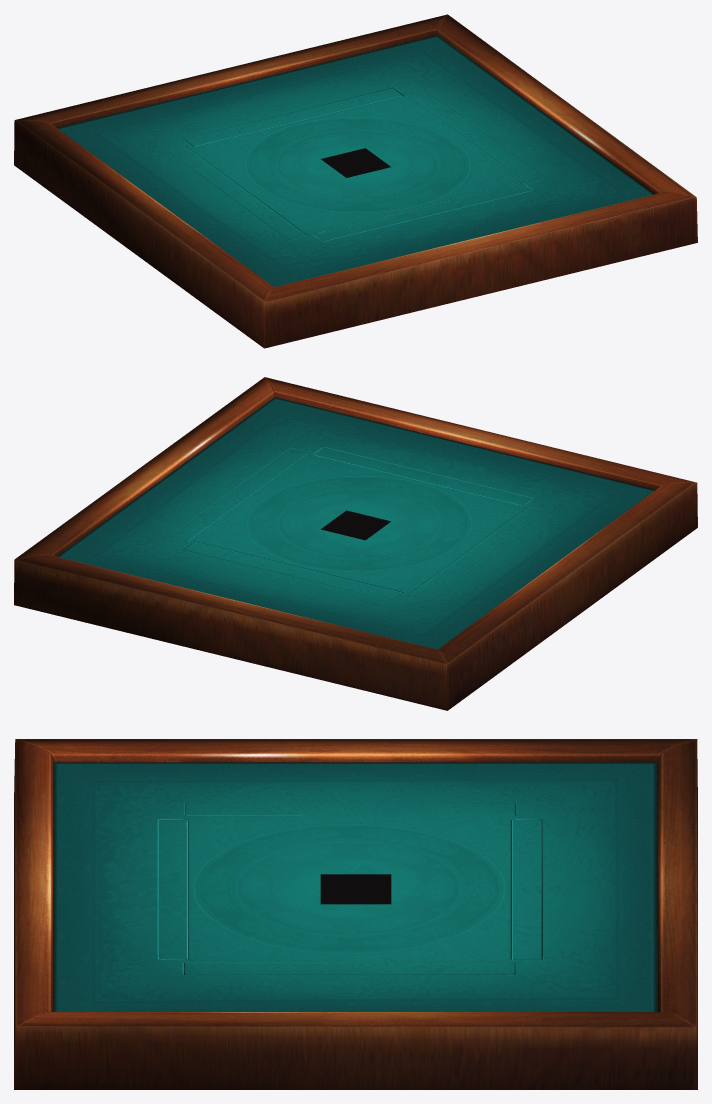
The model's file is MahjongDeskModel.FBX.
3 renders of one model, top to bottom at view 1: azimuth 30°, elevation 25°; view 2: azimuth 150°, elevation 25°; view 3: azimuth 270°, elevation 25°, orthographic. The views are drawn at different scales.
Parts seen in each view (by area): view 1: desk_face, desk_side, desk_mjtuo_north, desk_mjtuo_east, desk_mjtuo_west, desk_mjtuo_self, desk_bottom; view 2: desk_face, desk_side, desk_mjtuo_north, desk_mjtuo_east, desk_mjtuo_self, desk_mjtuo_west, desk_bottom; view 3: desk_face, desk_side, desk_mjtuo_north, desk_mjtuo_east, desk_mjtuo_west, desk_mjtuo_self, desk_bottom.
Part boxes in pixels (x1,y1,x2,y2): desk_face: [57, 35, 654, 287]; desk_side: [14, 14, 697, 348]; desk_mjtuo_north: [183, 88, 402, 146]; desk_mjtuo_east: [407, 89, 546, 182]; desk_mjtuo_west: [168, 147, 307, 240]; desk_mjtuo_self: [313, 183, 531, 241]; desk_bottom: [321, 148, 390, 177]; desk_face: [57, 397, 654, 649]; desk_side: [14, 377, 697, 710]; desk_mjtuo_north: [184, 542, 402, 600]; desk_mjtuo_east: [170, 448, 308, 541]; desk_mjtuo_self: [313, 447, 532, 505]; desk_mjtuo_west: [408, 507, 547, 599]; desk_bottom: [321, 510, 390, 540]; desk_face: [53, 762, 657, 1011]; desk_side: [14, 739, 697, 1089]; desk_mjtuo_north: [511, 820, 541, 959]; desk_mjtuo_east: [184, 962, 515, 974]; desk_mjtuo_west: [185, 803, 515, 815]; desk_mjtuo_self: [159, 820, 187, 958]; desk_bottom: [320, 874, 391, 904].
Size of the model in its own units: 106 by 11.15 by 106.
Materials: 2 (1 with a texture image).
